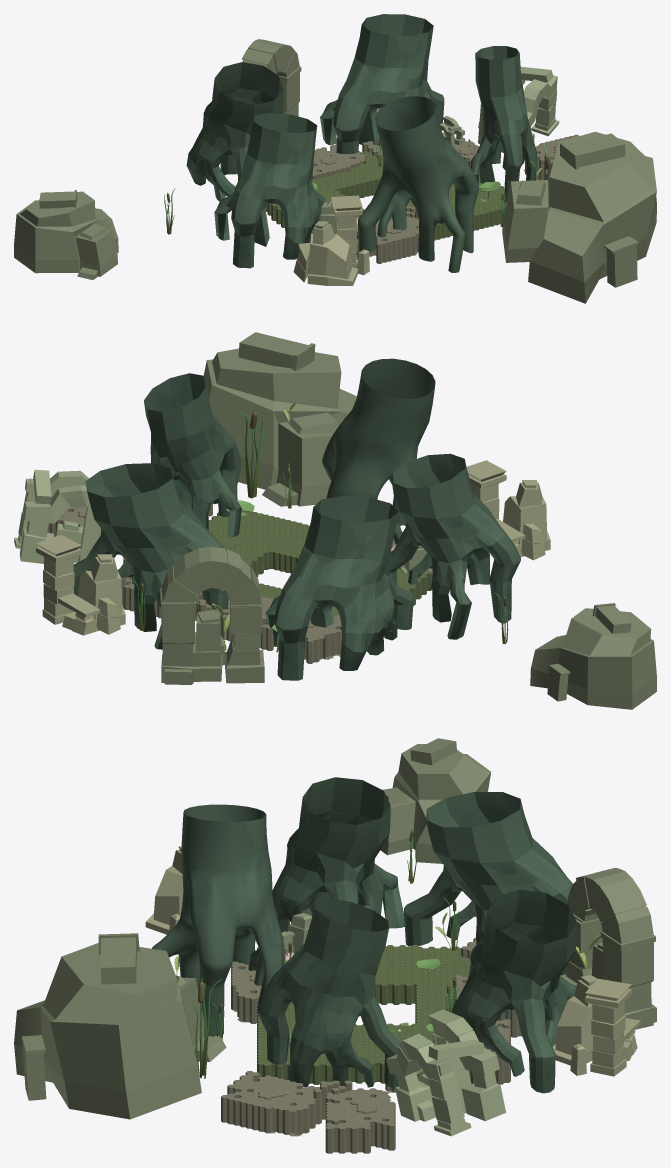
The model's file is Background_V02.fbx.
The picture shows the model from 3 angles, top to bottom: view 1: azimuth 30°, elevation 25°; view 2: azimuth 150°, elevation 25°; view 3: azimuth 270°, elevation 25°; orthographic projection. The views are drawn at different scales.
Visible parts, largest first — view 1: BG; view 2: BG; view 3: BG.
Boxes of the visible parts, x1,y1,x2,y2 form: BG: (14, 14, 656, 303); BG: (14, 332, 656, 709); BG: (14, 738, 656, 1153).
Bounding box in the file's own units: 194 × 55.67 × 156.
